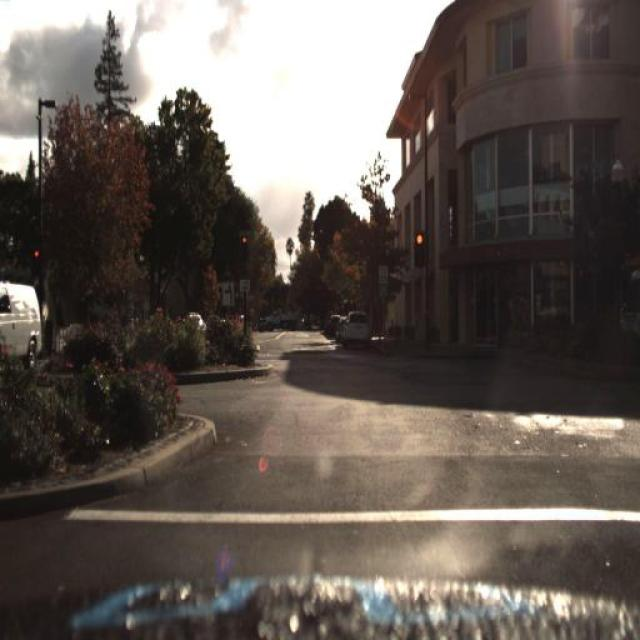car: (0, 278, 44, 374), (341, 306, 372, 348), (258, 304, 298, 332), (262, 303, 300, 332)
trafficLight-Green: (28, 236, 44, 276)
trafficLight-RedLeft: (411, 220, 427, 266), (237, 227, 253, 266)
